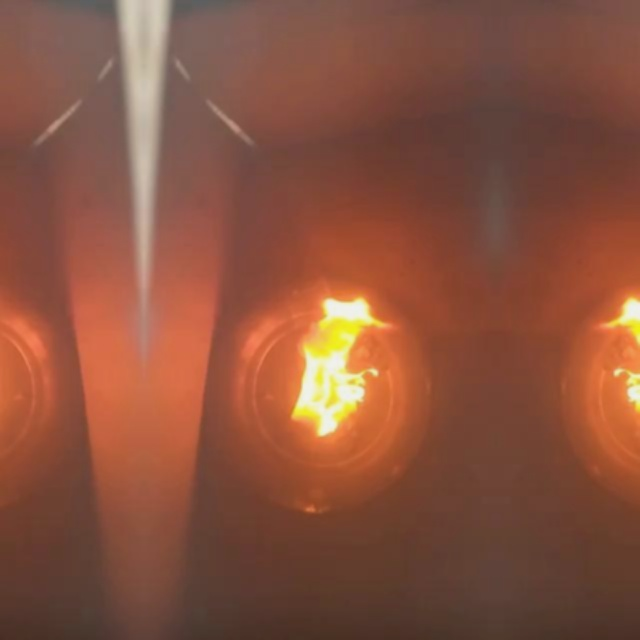fire: (243, 269, 401, 475), (563, 263, 640, 434)
